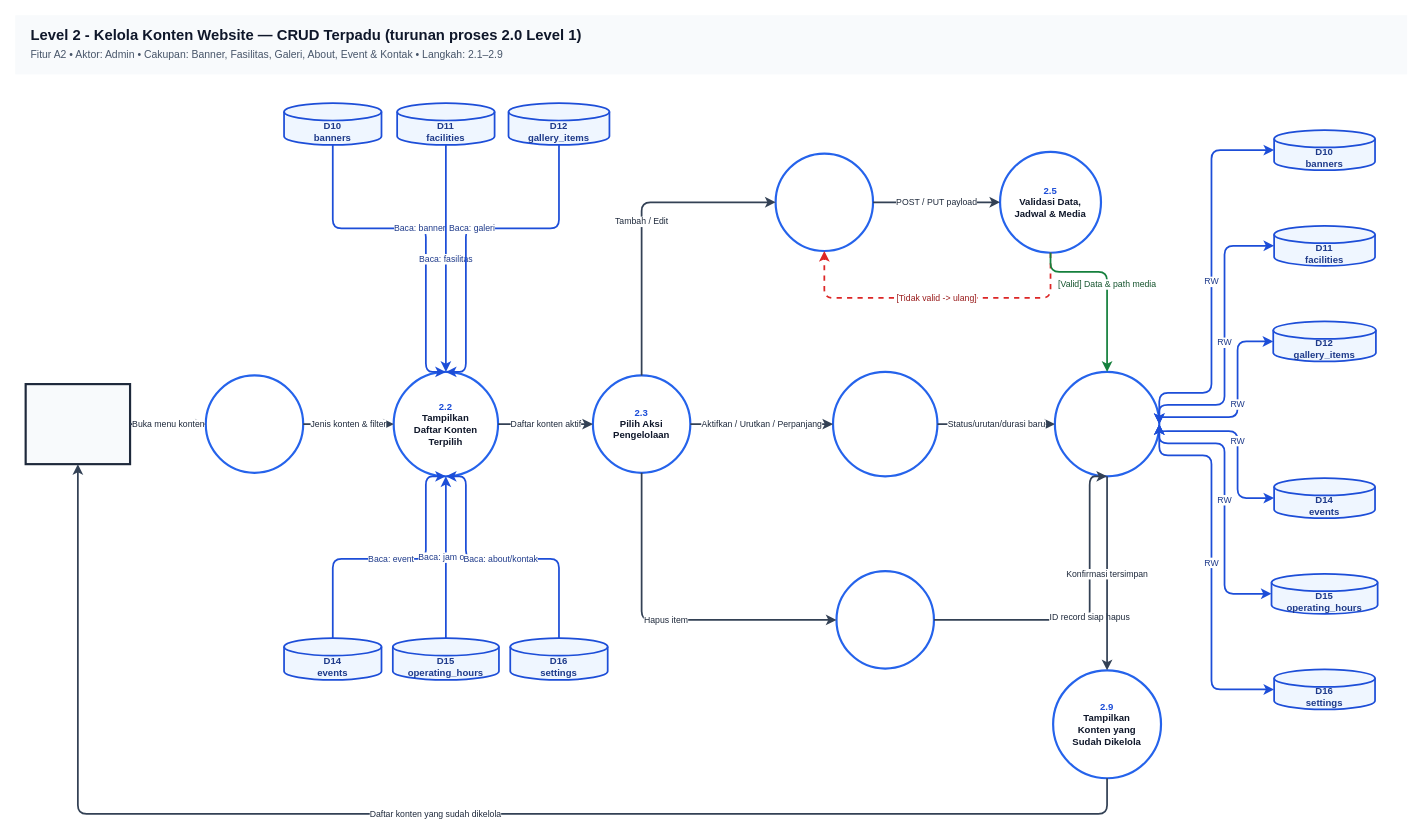
This 1422x836 diagram has some shape labels left out. Each missing label, with the centre of its shape:
"2.1 Pilih Jenis Konten Website" belongs at (x=254, y=424).
"2.4 Isi / Ubah Form & Media" belongs at (x=824, y=202).
"2.6 Atur Status Tampil, Urutan & Durasi" belongs at (x=885, y=423).
"2.7 Hapus File Media Fisik" belongs at (x=885, y=619).
"2.8 Simpan / Update / Hapus di DB" belongs at (x=1106, y=423).
"Admin Terautentikasi" belongs at (x=77, y=424).
